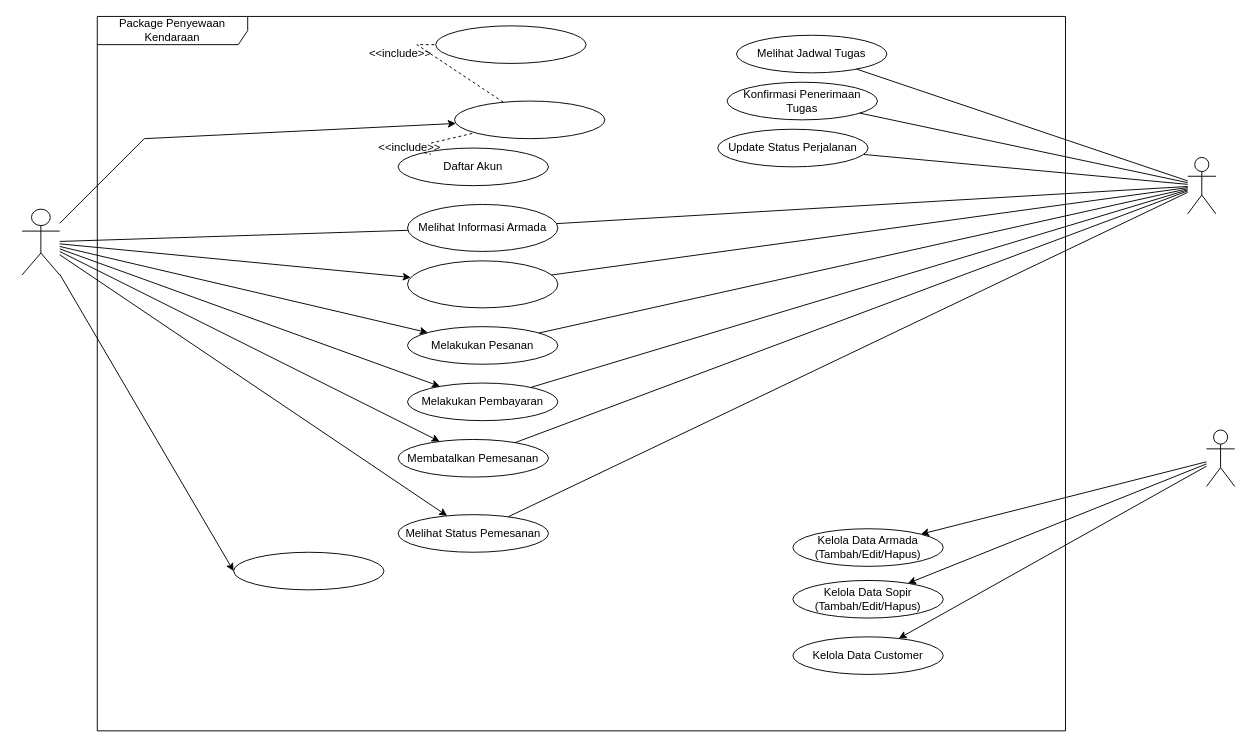
Image size: 1252x747. Some labels were removed from this diagram. Here are the shapes that lost their labels. From the top down, the centre of each, then its label:
(x=510, y=44): Edit Profil
(x=529, y=119): Login
(x=1201, y=185): Staf
(x=40, y=241): Customer
(x=482, y=284): Melihat Ketersediaan Sopir
(x=1220, y=457): admin
(x=308, y=570): Logout
